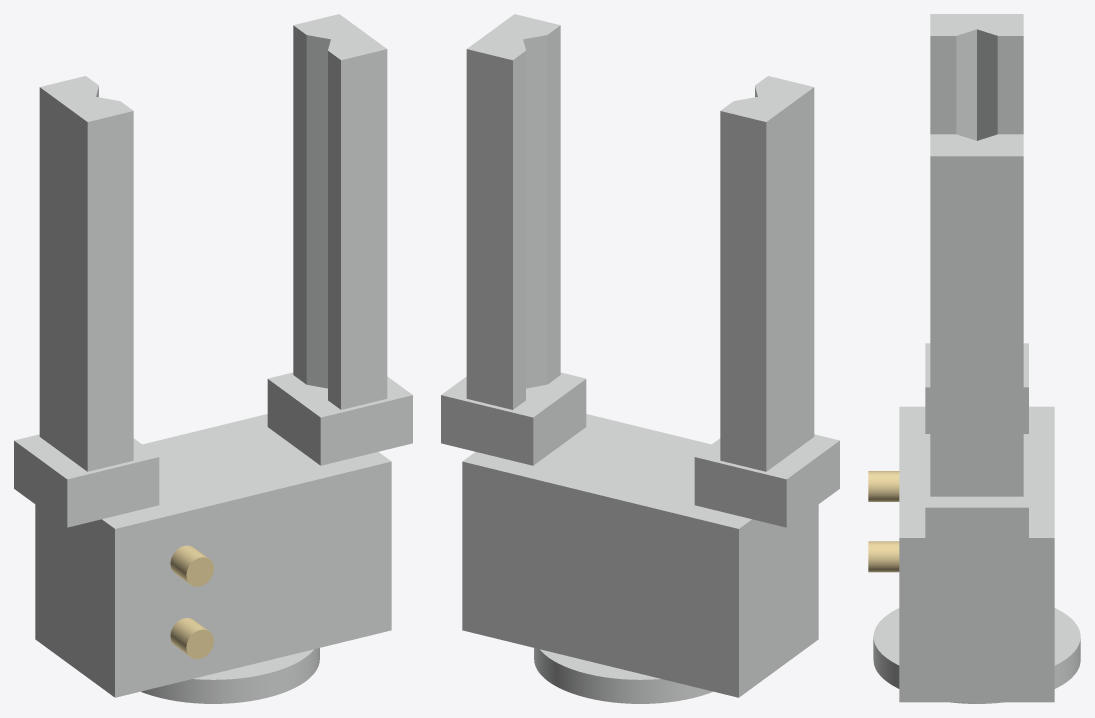
File: gripper.glb
3 views of the same model, side by side, from view 1: azimuth 30°, elevation 25°; view 2: azimuth 150°, elevation 25°; view 3: azimuth 270°, elevation 25° (orthographic). The views are drawn at different scales.
Parts seen in each view (by area): view 1: gripper_body, finger_r, finger_l, adapter_plate, air_port_close, air_port_open; view 2: gripper_body, finger_r, finger_l, adapter_plate; view 3: finger_r, gripper_body, finger_l, adapter_plate, air_port_open, air_port_close.
Boxes of the visible parts, bbox=[...] form: gripper_body: bbox=[35, 414, 391, 697]; finger_r: bbox=[267, 14, 412, 465]; finger_l: bbox=[14, 76, 159, 527]; adapter_plate: bbox=[141, 648, 319, 703]; air_port_close: bbox=[170, 545, 213, 586]; air_port_open: bbox=[170, 618, 213, 659]; gripper_body: bbox=[462, 414, 818, 697]; finger_r: bbox=[441, 14, 586, 465]; finger_l: bbox=[694, 76, 839, 527]; adapter_plate: bbox=[534, 648, 712, 703]; finger_r: bbox=[925, 134, 1028, 554]; gripper_body: bbox=[899, 406, 1054, 702]; finger_l: bbox=[925, 14, 1028, 433]; adapter_plate: bbox=[873, 608, 1080, 703]; air_port_open: bbox=[868, 541, 899, 572]; air_port_close: bbox=[868, 471, 899, 501].
Size of the model in its own units: 0.15 by 0.245 by 0.082.
